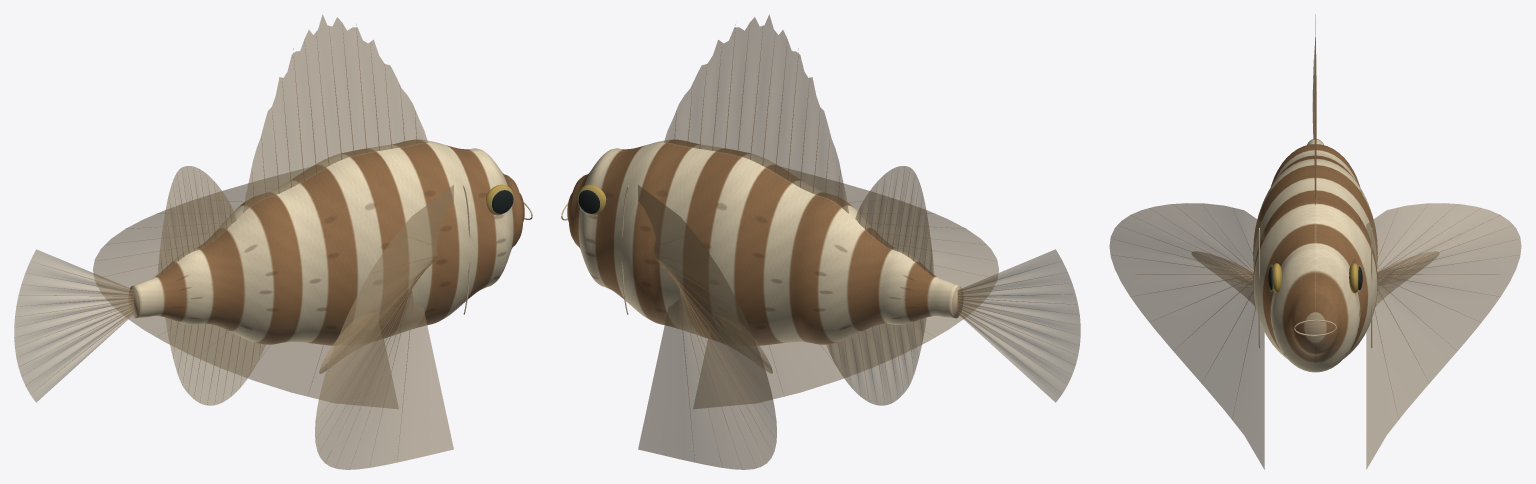
The model's file is lion-desktop.glb.
3 renders of one model, left to right at view 1: azimuth 30°, elevation 25°; view 2: azimuth 150°, elevation 25°; view 3: azimuth 270°, elevation 25°, orthographic. The views are drawn at different scales.
Visible parts, largest first — view 1: skin, pectoral-left, dorsal, tail, anal, dorsal-ray, pelvic-left; view 2: skin, pectoral-left, dorsal, tail, anal, dorsal-ray, pelvic-left; view 3: pectoral-left, skin, dorsal-ray, pelvic-left, operculum, eye-iris--1.
Part boxes in pixels (left/top/right/bottom): skin: left=129, top=139, right=524, bottom=345; pectoral-left: left=93, top=167, right=453, bottom=469; dorsal: left=157, top=14, right=427, bottom=276; tail: left=14, top=249, right=134, bottom=402; anal: left=165, top=317, right=265, bottom=405; dorsal-ray: left=15, top=24, right=437, bottom=452; pelvic-left: left=319, top=307, right=381, bottom=373; skin: left=567, top=139, right=963, bottom=345; pectoral-left: left=638, top=167, right=998, bottom=469; dorsal: left=664, top=14, right=934, bottom=276; tail: left=957, top=249, right=1080, bottom=402; anal: left=826, top=317, right=926, bottom=405; dorsal-ray: left=654, top=24, right=1079, bottom=456; pelvic-left: left=710, top=307, right=772, bottom=373; pectoral-left: left=1109, top=203, right=1521, bottom=469; skin: left=1253, top=138, right=1377, bottom=372; dorsal-ray: left=1112, top=38, right=1518, bottom=368; pelvic-left: left=1192, top=251, right=1438, bottom=305; operculum: left=1258, top=228, right=1372, bottom=348; eye-iris--1: left=1272, top=263, right=1358, bottom=293.
Bounding box in the file's own units: 0.6032 × 0.4993 × 0.4559.
Materials: 11 (1 with a texture image).
